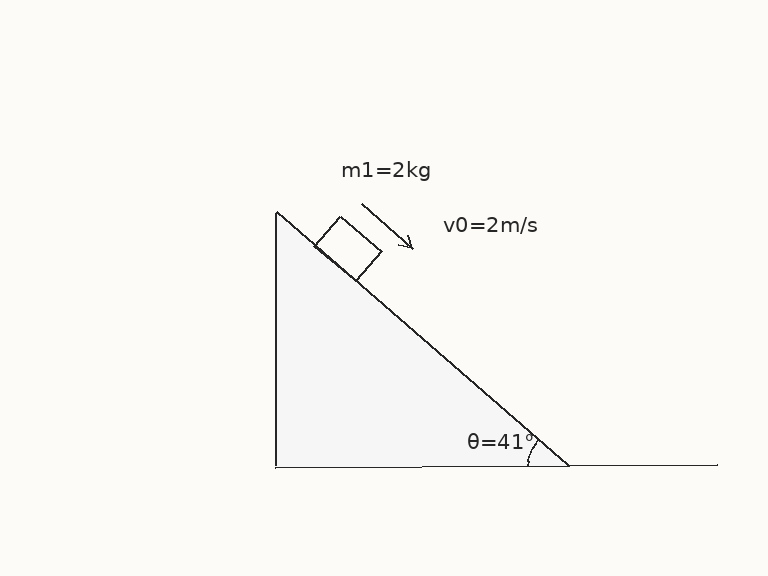block: (313, 214, 383, 283)
ramp: (274, 210, 570, 468)
